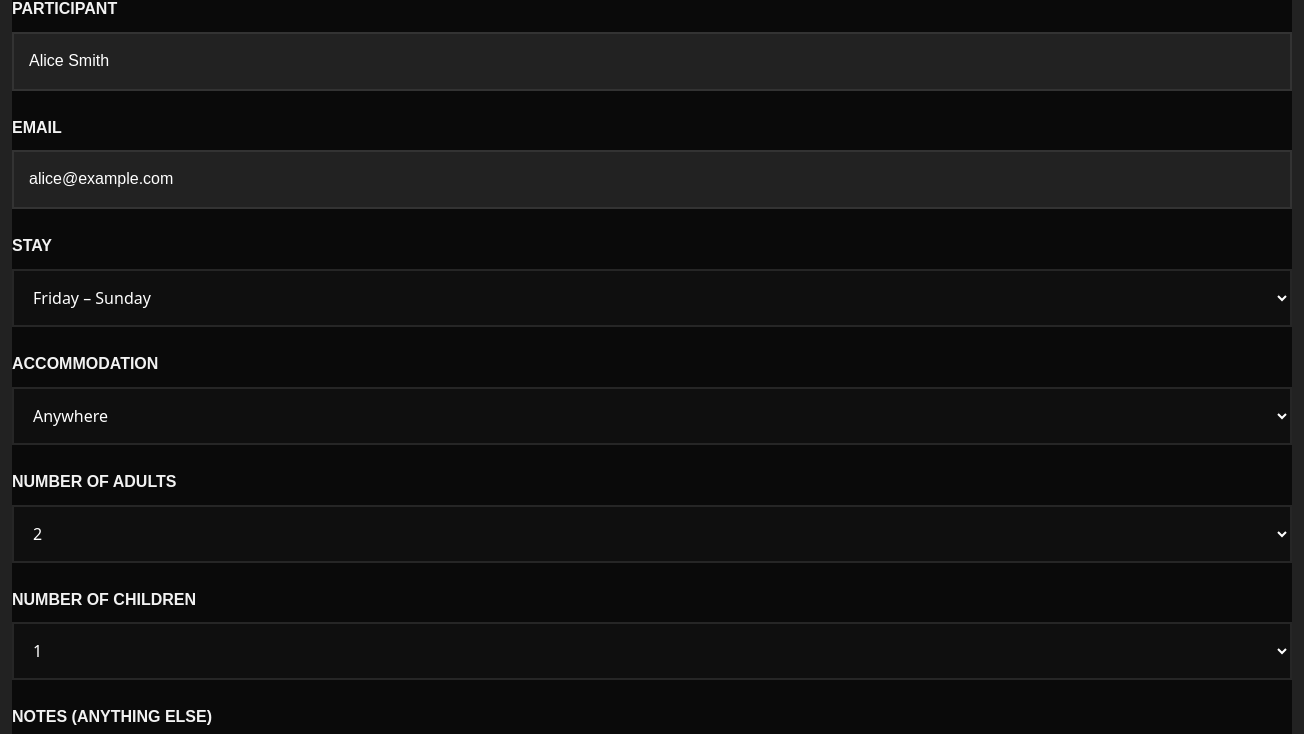
Scenario: ManageForm › edit form – save › shows client-side validation errors for empty name
Clear the field labelled "Participant" at (652, 61), box [12,32,1292,91]
(page scrolled)
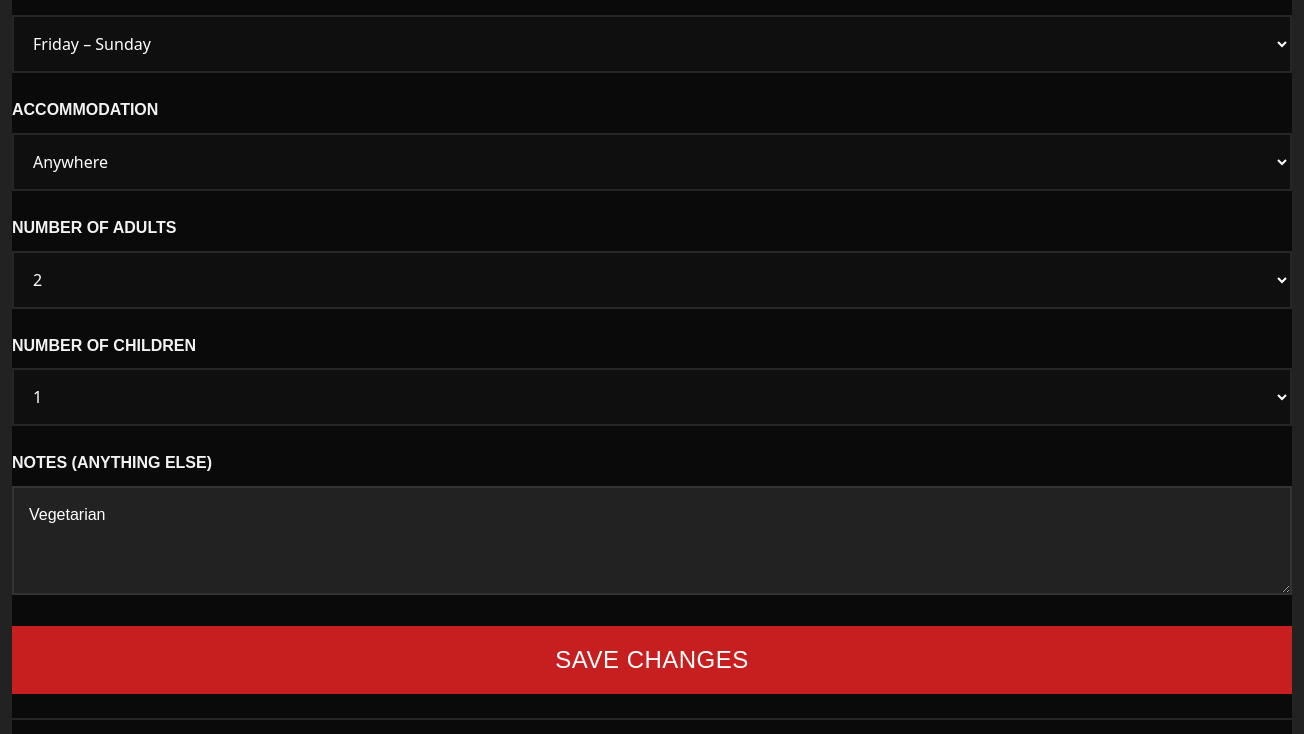
Click the button "Save Changes" at (652, 660), box [12,626,1292,694]
(page scrolled)
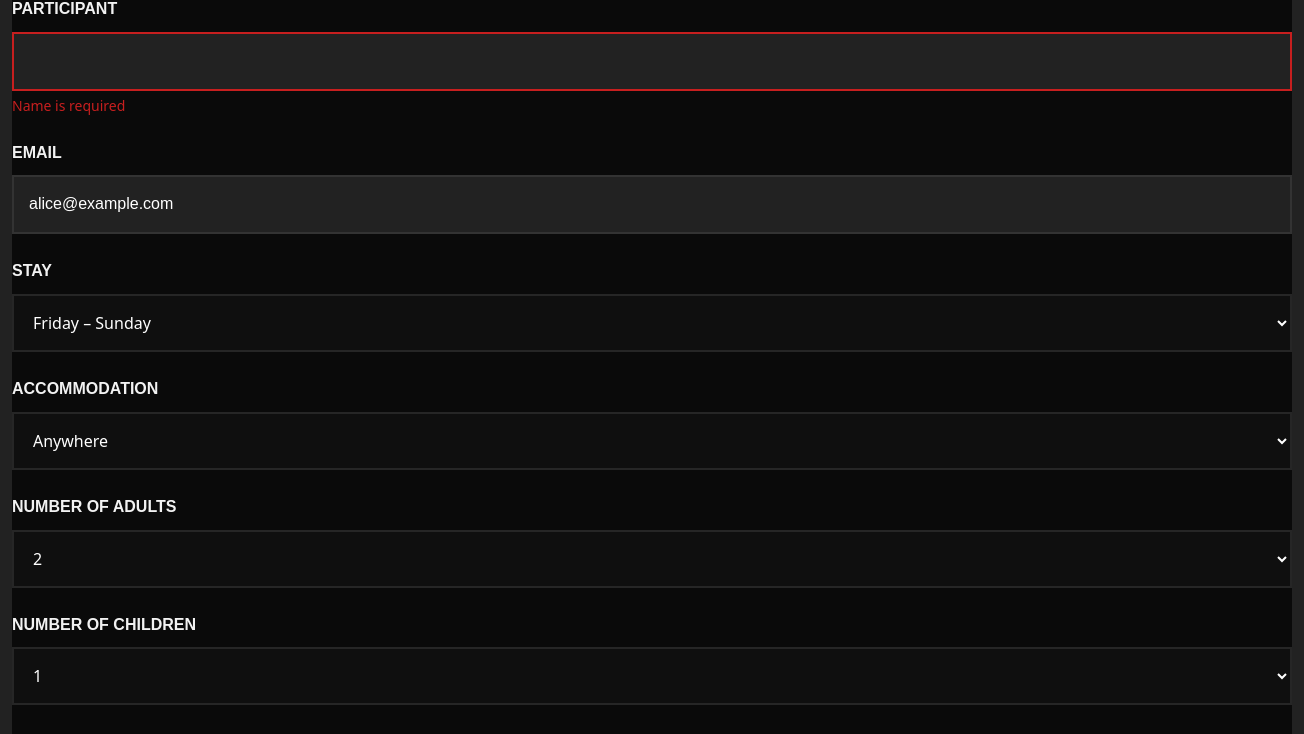
Check: the text "Name is required" is shown, box [12,96,125,115]
